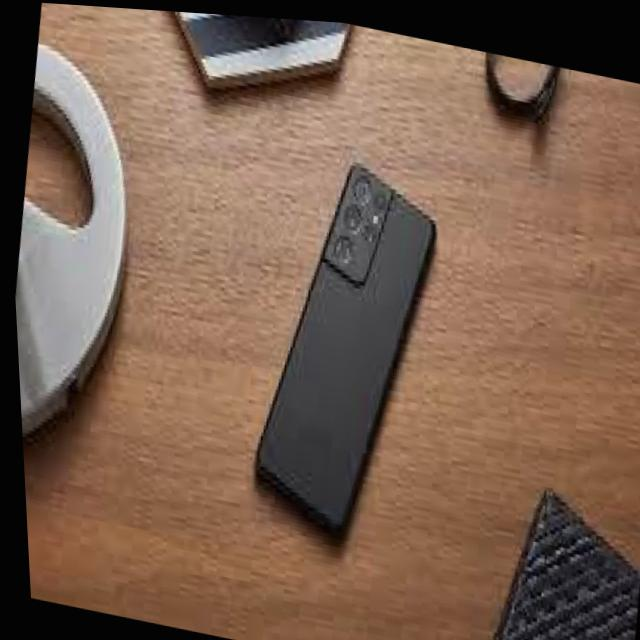Smartphone: (218, 117, 470, 572)
